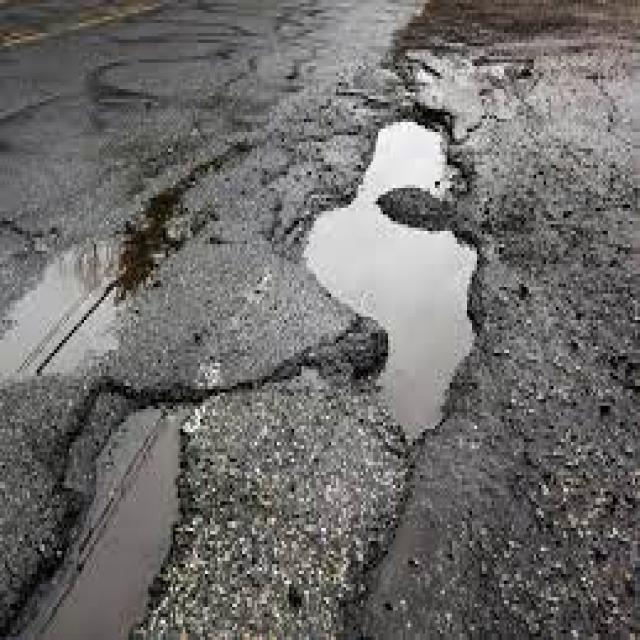Pothole: (301, 122, 479, 442), (304, 122, 479, 442), (5, 409, 183, 640), (7, 412, 183, 640)
